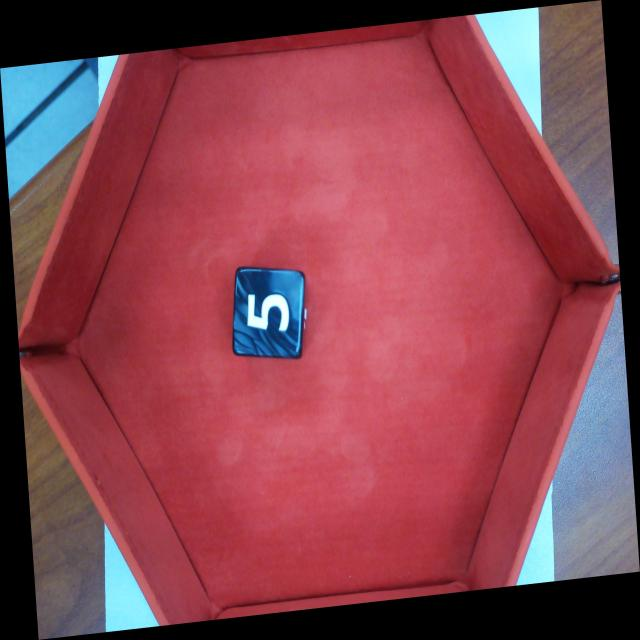dice: (230, 266, 307, 361)
